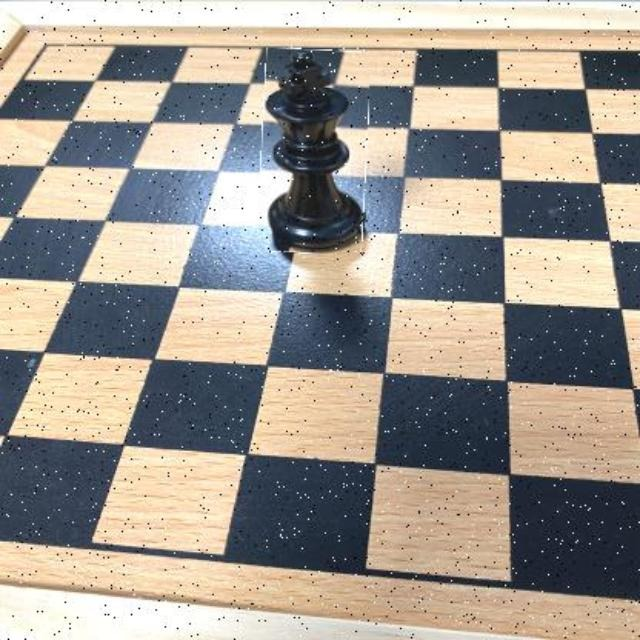black-king: (259, 49, 368, 255)
